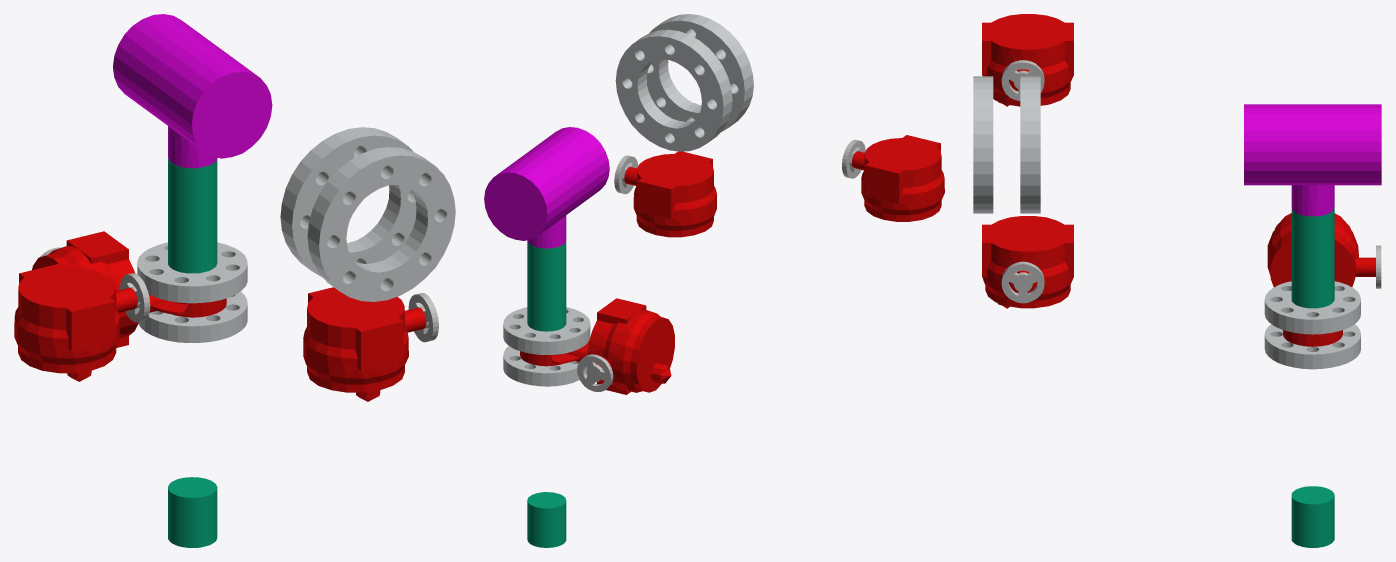
The picture shows the model from 3 angles, left to right: view 1: azimuth 30°, elevation 25°; view 2: azimuth 150°, elevation 25°; view 3: azimuth 270°, elevation 25°; orthographic projection. The views are drawn at different scales.
Size of the model in its own units: 0.8401 by 1.04 by 0.8462.
